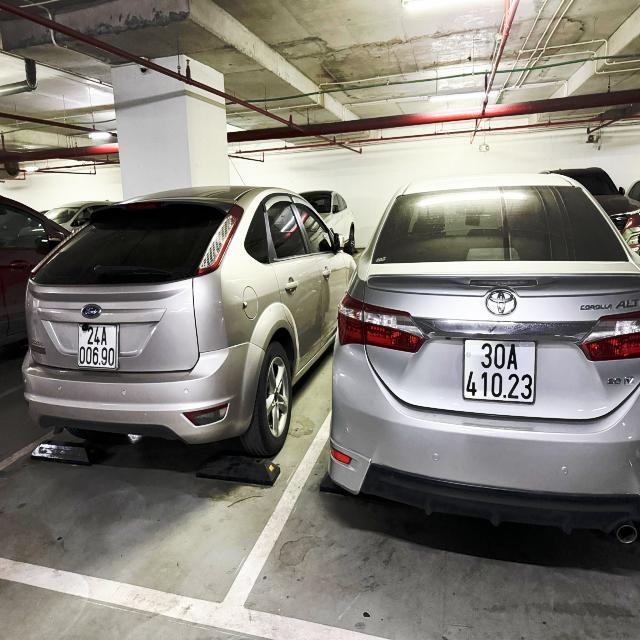license_plate: (462, 338, 539, 407), (77, 323, 119, 371)
